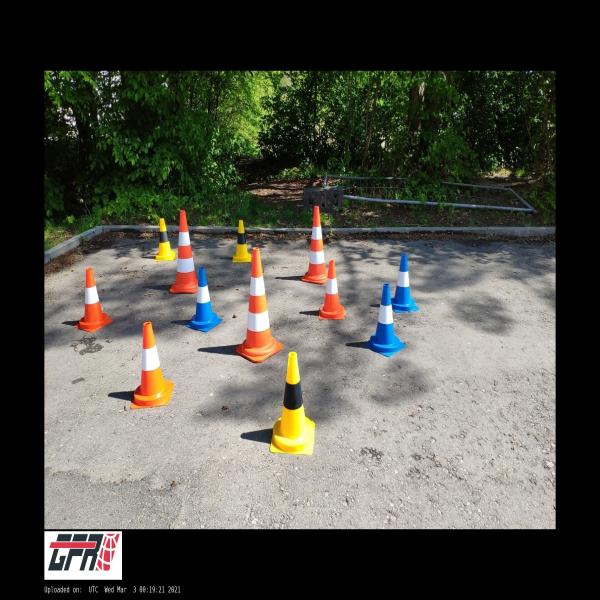blue_cone: (365, 283, 405, 357), (186, 269, 222, 332), (391, 254, 419, 313)
large_orange_cone: (235, 248, 283, 363), (170, 210, 199, 293), (300, 205, 331, 282)
orange_cone: (130, 322, 174, 409), (75, 269, 113, 332), (319, 261, 343, 318)
yellow_cone: (270, 352, 314, 455), (155, 218, 175, 261), (233, 220, 251, 263)
